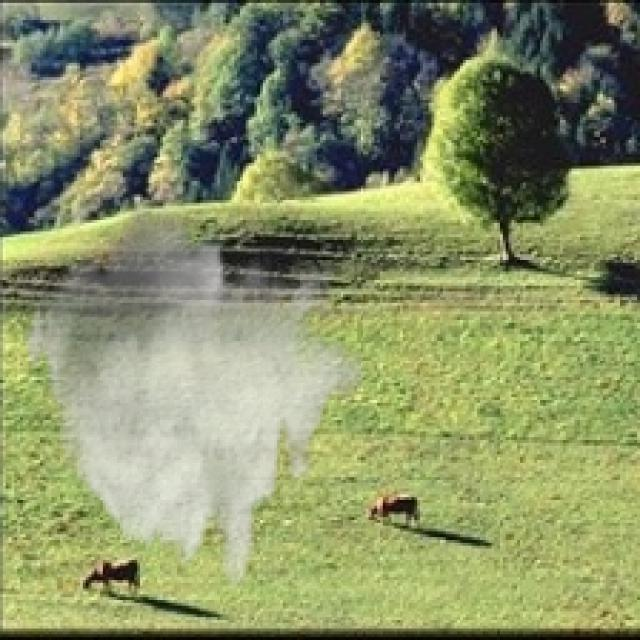smoke: (20, 188, 366, 592)
